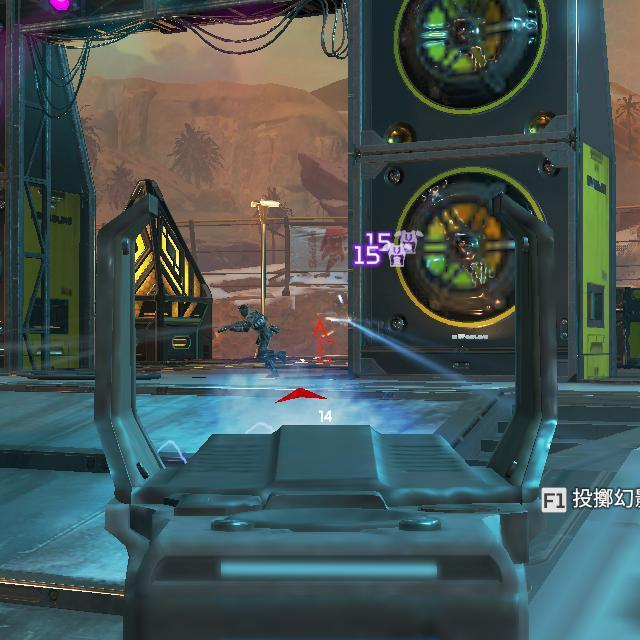avatar: (237, 302, 275, 363)
